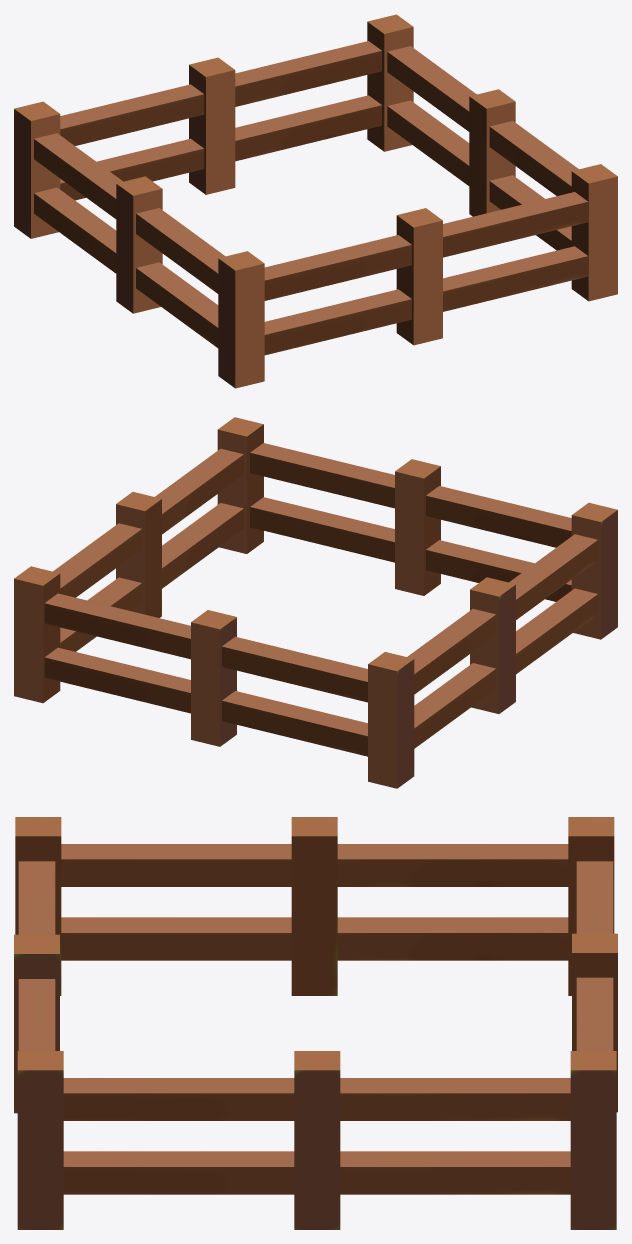
Rendered from Ground_Fence_single.fbx.
3 views of the same model, one above another, from view 1: azimuth 30°, elevation 25°; view 2: azimuth 150°, elevation 25°; view 3: azimuth 270°, elevation 25° (orthographic). The views are drawn at different scales.
Visible parts, largest first — view 1: Ground_Fence_single; view 2: Ground_Fence_single; view 3: Ground_Fence_single.
Boxes of the visible parts, x1,y1,x2,y2 form: Ground_Fence_single: (14, 14, 617, 388); Ground_Fence_single: (14, 417, 617, 788); Ground_Fence_single: (14, 817, 617, 1229).
Size of the model in its own units: 8.73 by 8.8 by 2.56.
